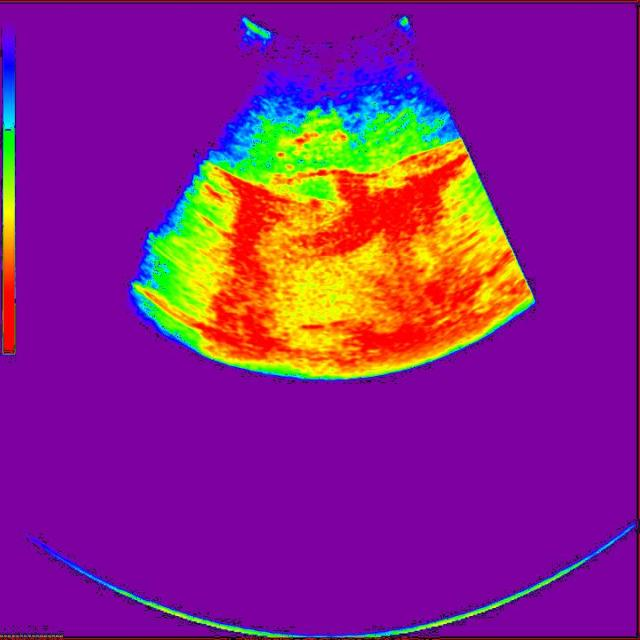lamb liver post: (273, 108, 352, 181)
